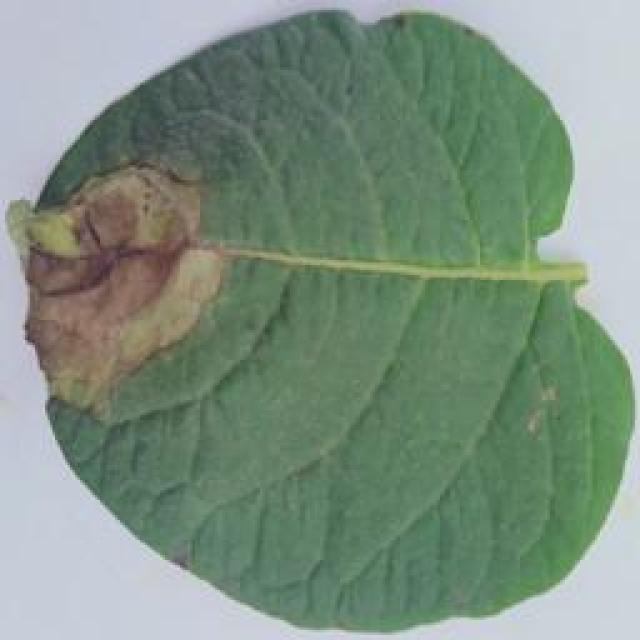Potato_Late_Blight: (7, 4, 640, 640)
